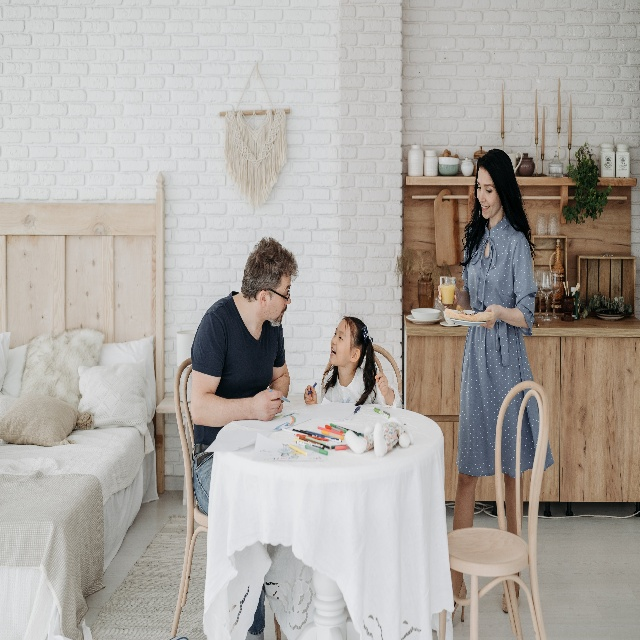Gafas: (265, 287, 291, 303)
Sin_guantes: (252, 388, 283, 421), (478, 303, 500, 331), (437, 282, 458, 308), (375, 371, 390, 395), (303, 384, 318, 405)
